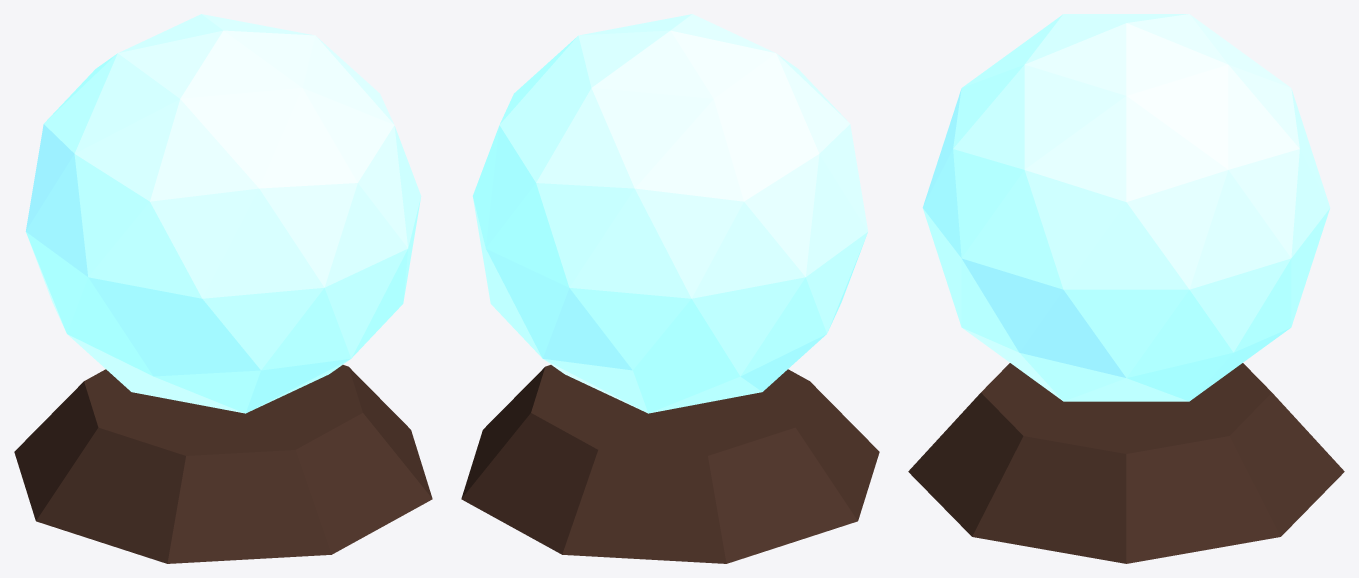
The model's file is crystal_ball.glb.
The picture shows the model from 3 angles, left to right: view 1: azimuth 30°, elevation 25°; view 2: azimuth 150°, elevation 25°; view 3: azimuth 270°, elevation 25°; orthographic projection.
Parts seen in each view (by area): view 1: crystal_ball; view 2: crystal_ball; view 3: crystal_ball.
Boxes of the visible parts, x1,y1,x2,y2 form: crystal_ball: [14, 14, 432, 563]; crystal_ball: [461, 14, 879, 563]; crystal_ball: [908, 14, 1344, 563].
Size of the model in its own units: 0.6 by 0.68 by 0.6.
